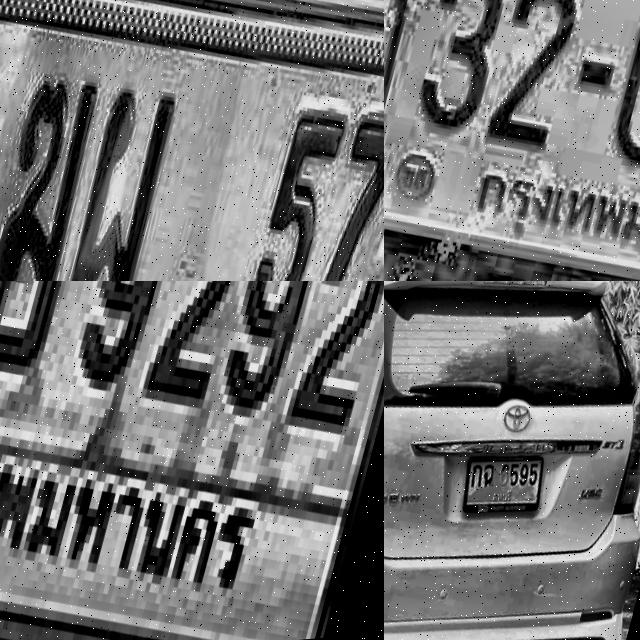license-plate: (0, 281, 384, 640), (0, 0, 384, 281), (384, 0, 640, 281), (446, 439, 558, 543)
